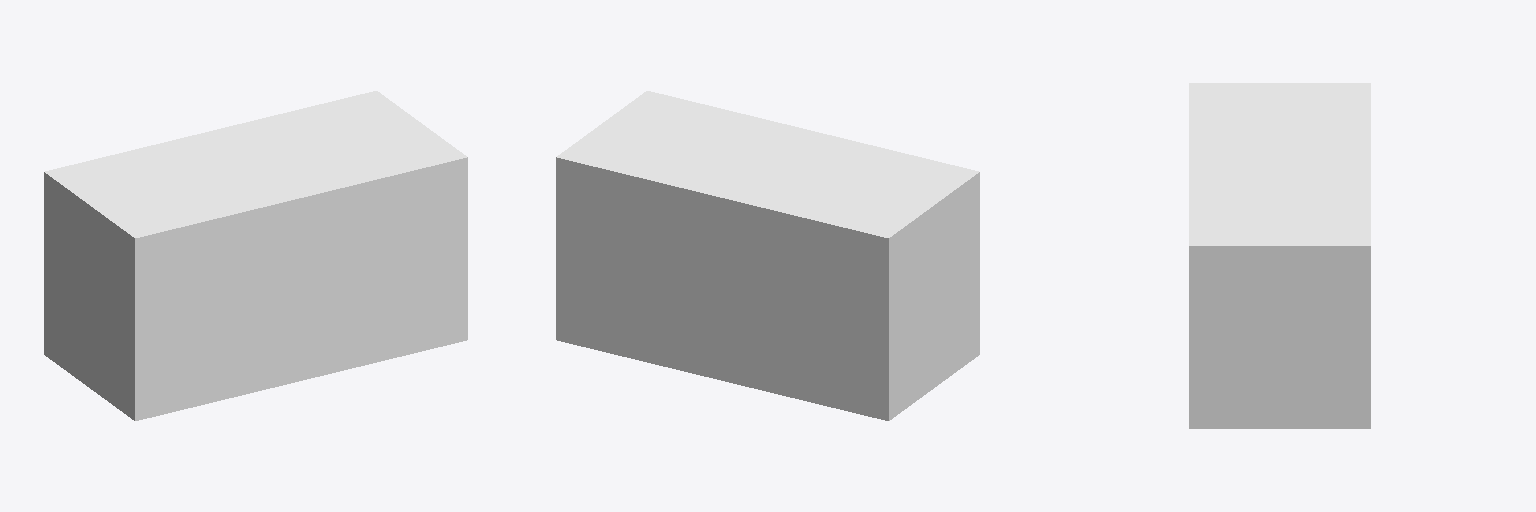
File: game-3.obj
The picture shows the model from 3 angles: view 1: azimuth 30°, elevation 25°; view 2: azimuth 150°, elevation 25°; view 3: azimuth 270°, elevation 25°; orthographic projection.
Parts seen in each view (by area): view 1: object 1; view 2: object 1; view 3: object 1.
Part boxes in pixels (x1,y1,x2,y2): object 1: (44, 91, 467, 420); object 1: (556, 91, 979, 420); object 1: (1189, 83, 1370, 428).
Bounding box in the file's own units: 4 × 2.1 × 1.9.